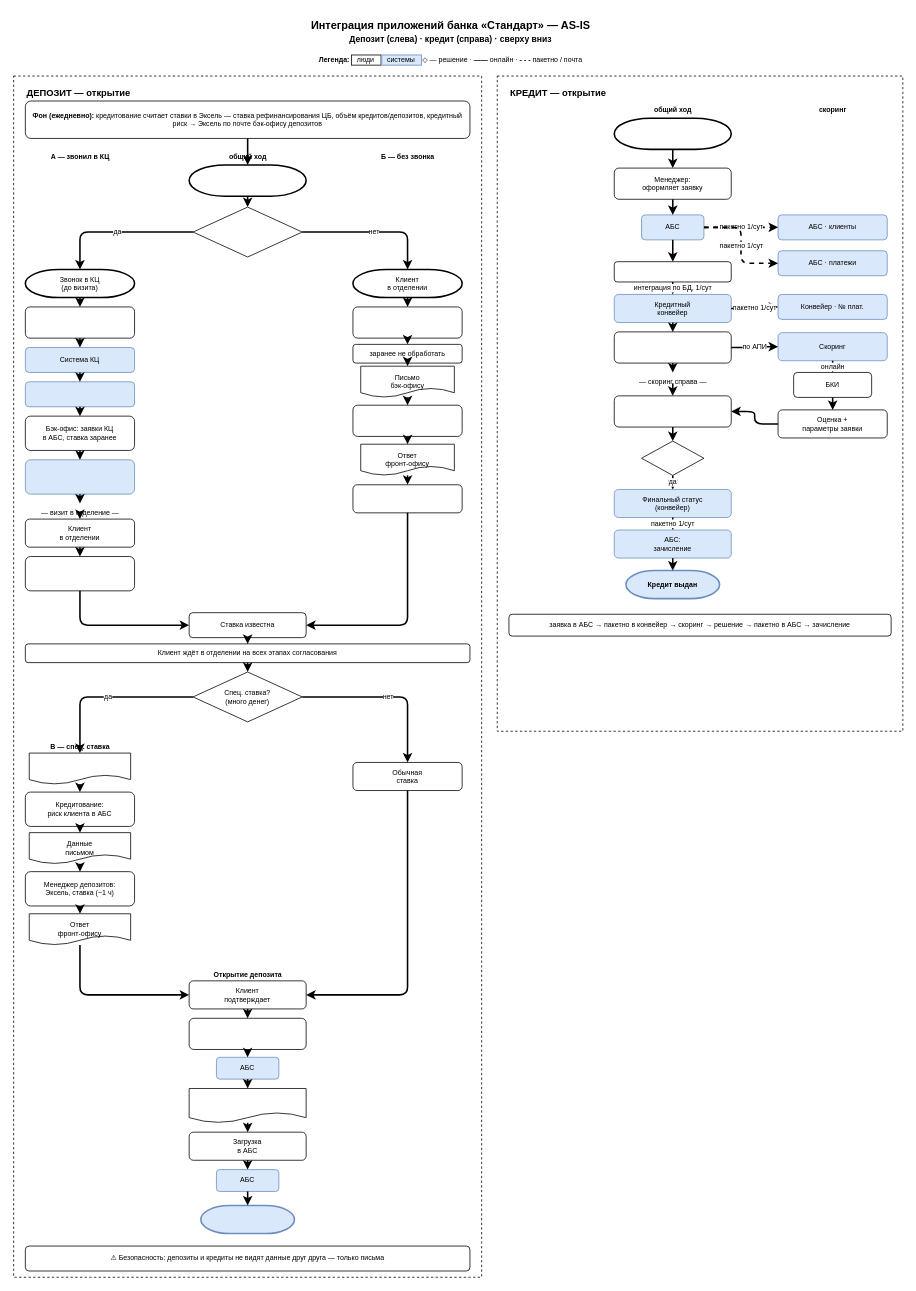
Image size: 916x1291. Some labels were removed from this diagram. The centre of each missing label's shape, as x and y in pixels:
"АБС → СМС: «приходите в отделение»" goes at (x=80, y=476).
"Бэк-офис → кредитование" goes at (x=79, y=768).
"Бэк-офис: Эксель (~20 мин)" goes at (x=407, y=420).
"Депозит открыт" goes at (x=247, y=1219).
"Документы, подпись" goes at (x=247, y=1105).
"Звонил в КЦ?" goes at (x=247, y=231).
"Клиент (только отделение)" goes at (x=672, y=133).
"Клиент хочет депозит (только отделение)" goes at (x=247, y=180).
"Клиенту: «заявка на рассмотрении»" goes at (x=672, y=271).
"Менеджер кредитования: изучает заявку" goes at (x=672, y=347).
"Одобрено?" goes at (x=672, y=457).
"Озвучивает ставку" goes at (x=407, y=498).
"Оператор КЦ: обращение" goes at (x=80, y=322).
"Сотрудник принимает решение о выдаче" goes at (x=672, y=411).
"Фронт-офис принимает" goes at (x=407, y=322).
"Фронт-офис: депозит в АБС" goes at (x=247, y=1033).
"Фронт-офис: ставка из АБС" goes at (x=80, y=573).
"→ АБС" goes at (x=80, y=394).
